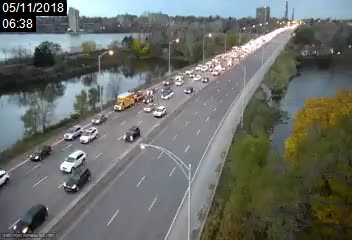congestion: (117, 70, 191, 116), (181, 55, 230, 88), (218, 44, 253, 63)
personal_car: (7, 203, 53, 234), (61, 168, 92, 194), (58, 151, 88, 172), (26, 140, 55, 161), (122, 124, 140, 144), (79, 125, 98, 143), (64, 124, 83, 142), (1, 163, 11, 189), (153, 104, 167, 119), (93, 111, 106, 125), (131, 88, 144, 102), (144, 85, 159, 96), (161, 87, 173, 99), (143, 101, 156, 112), (212, 66, 223, 77), (182, 84, 194, 94), (162, 77, 174, 85), (174, 76, 184, 85), (200, 64, 210, 73), (202, 75, 210, 85), (193, 62, 202, 70)
truck: (114, 92, 135, 111)
